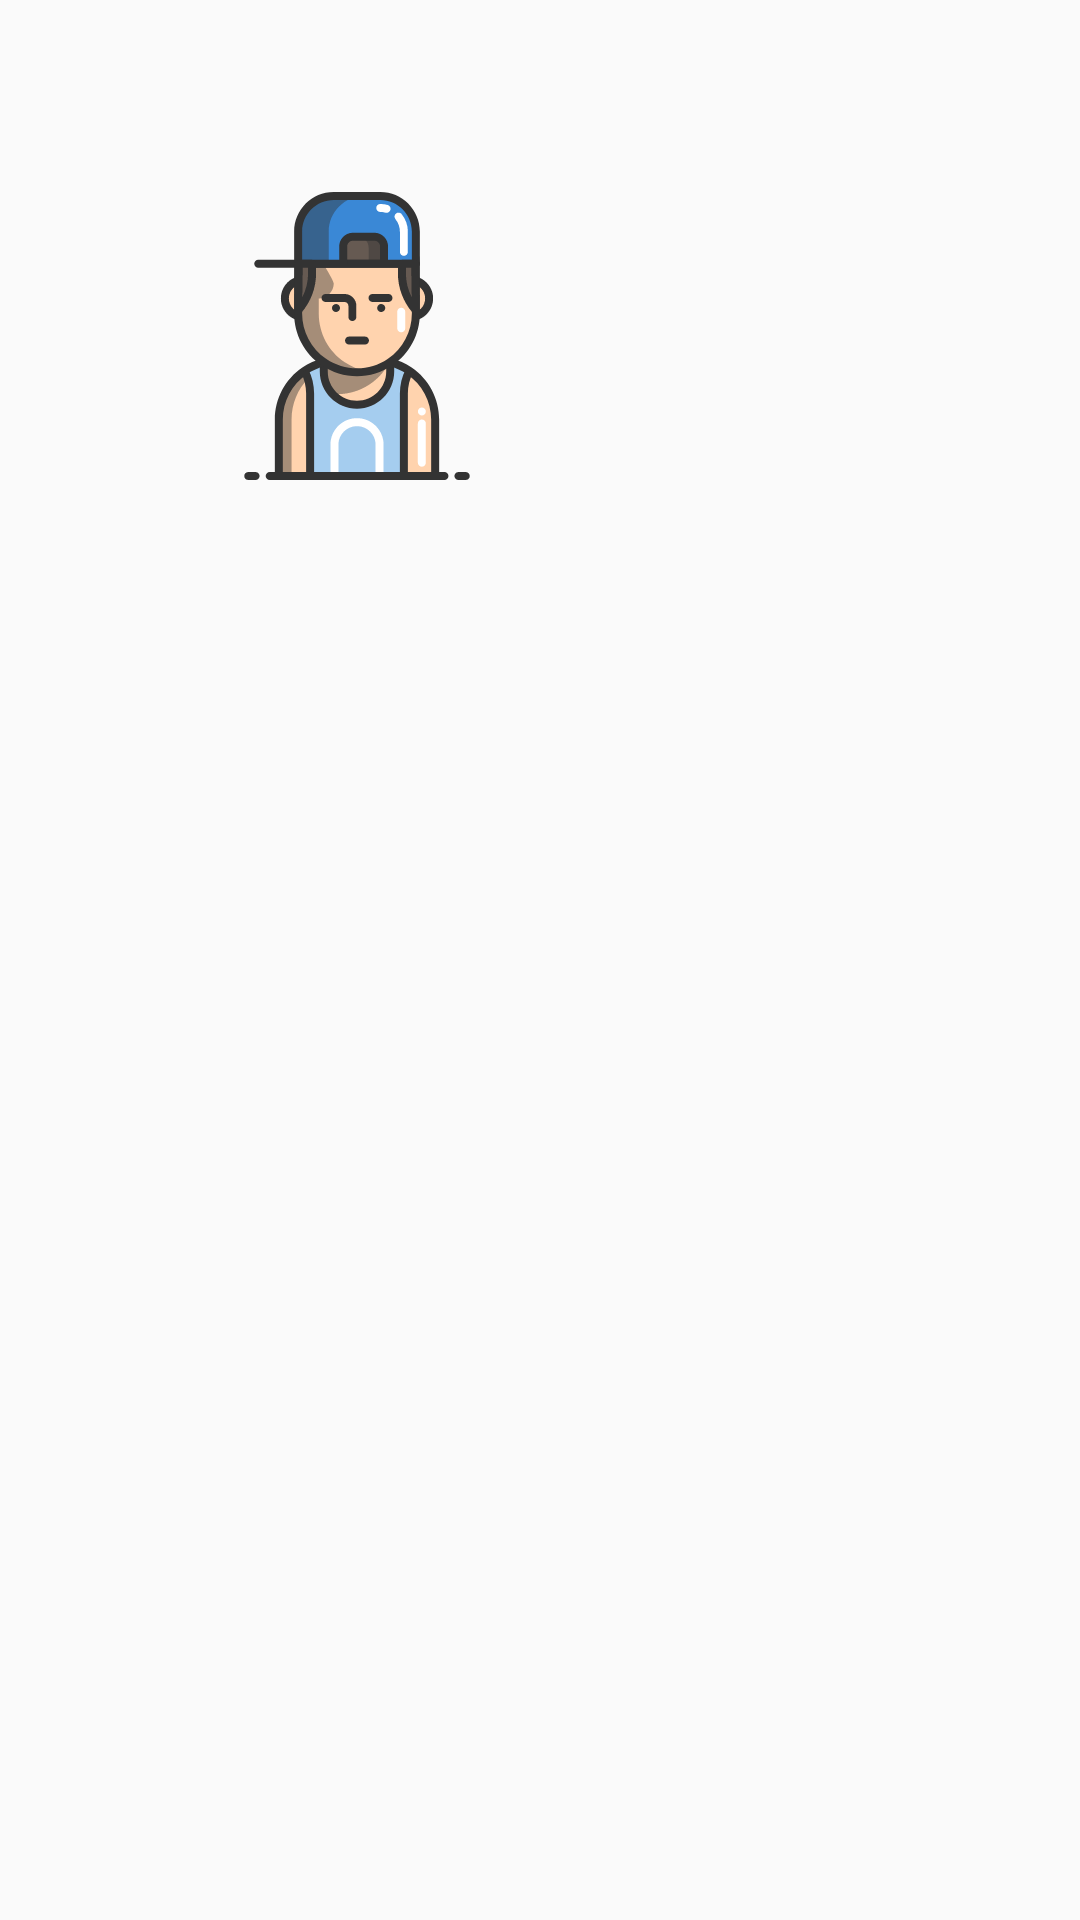

Named icons in this screenshot (1080w x 1920h) and their bounding boxes, bbox=[x1, y1, x2, y2]:
boy casual: bbox=[244, 192, 470, 480]
